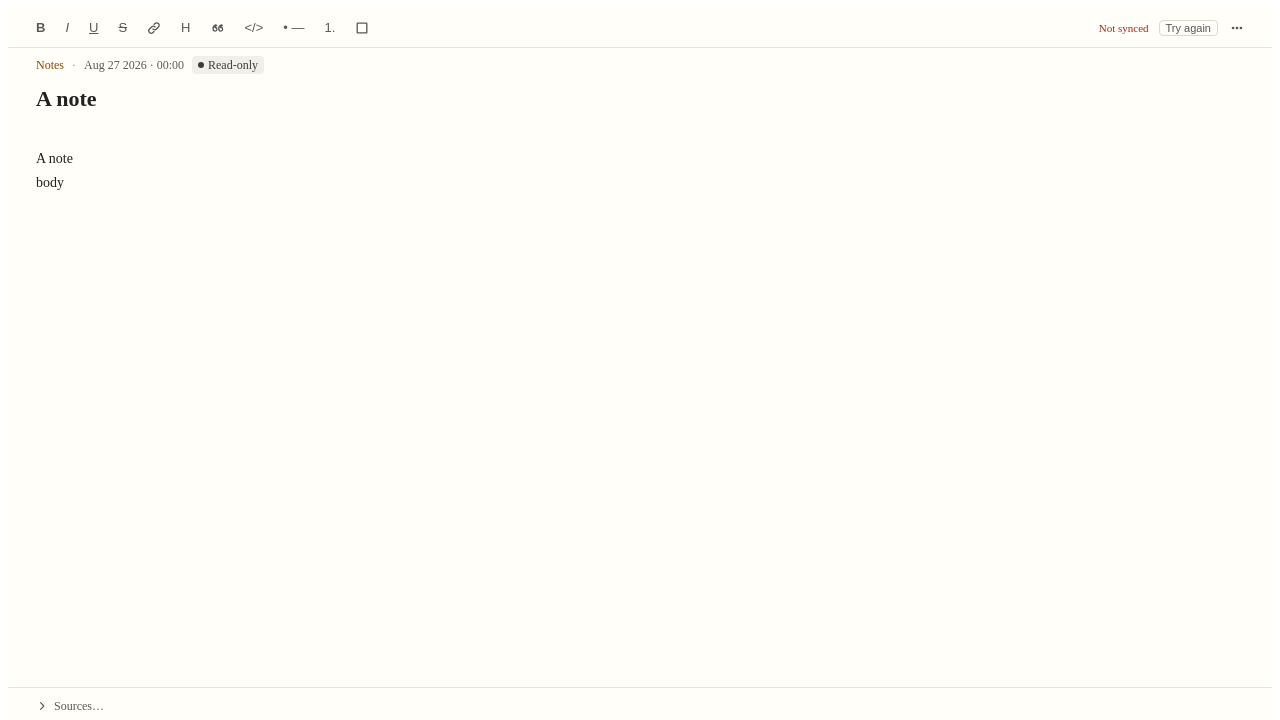
Test: NoteEditor shows why a push is blocked, and locks only when editing cannot help › a block by the remote document shows the reason as text and locks the note
Click the button with class "meta-status": (228, 65) [192,56,264,74]
(page scrolled)
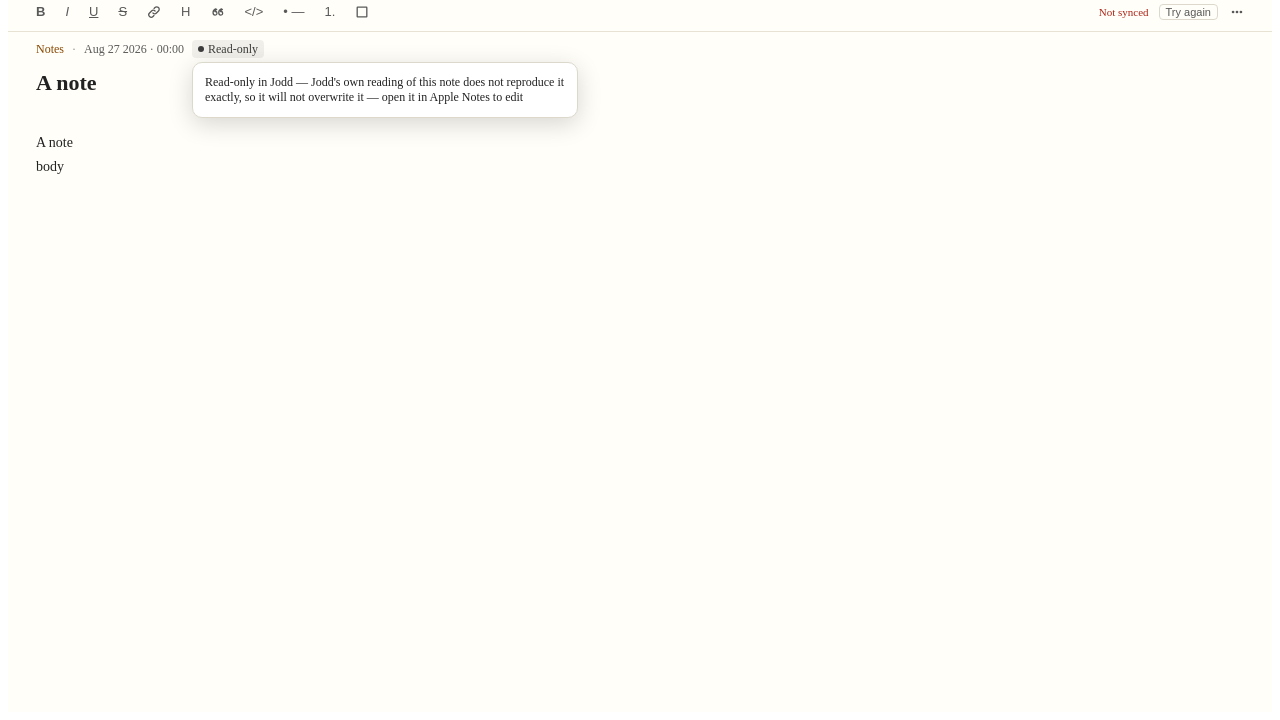
Expected: the dialog with test id "meta-status-popover" shows "open it in Apple Notes to edit", [205,75,564,104]
